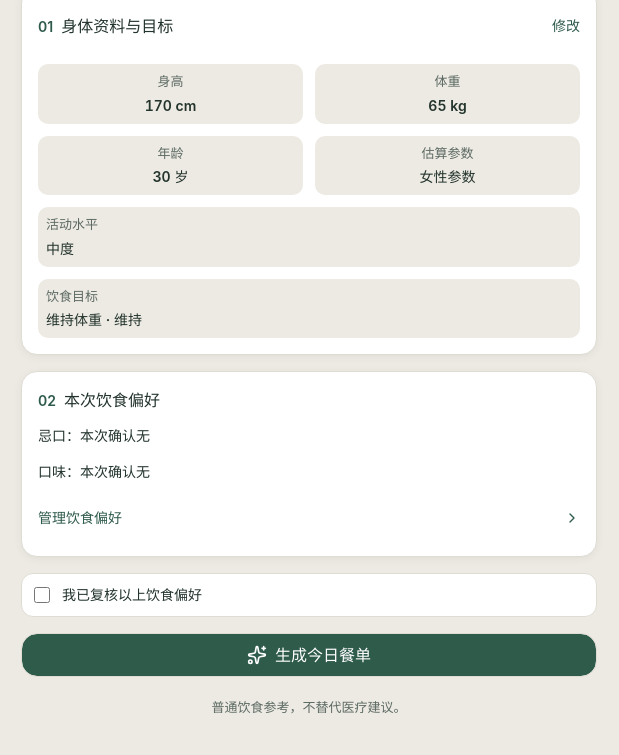
Scenario: PlanPage › never trusts raw stream text and does not provide a bypass when the safe snapshot refuses planning
The width and height of the screenshot is (619, 755).
expect the text "170 cm" is shown: met, box [145,96,196,114]
Step 1. Click the checkbox labelled "我已复核以上饮食偏好" → [42, 595], box [34,587,50,603]
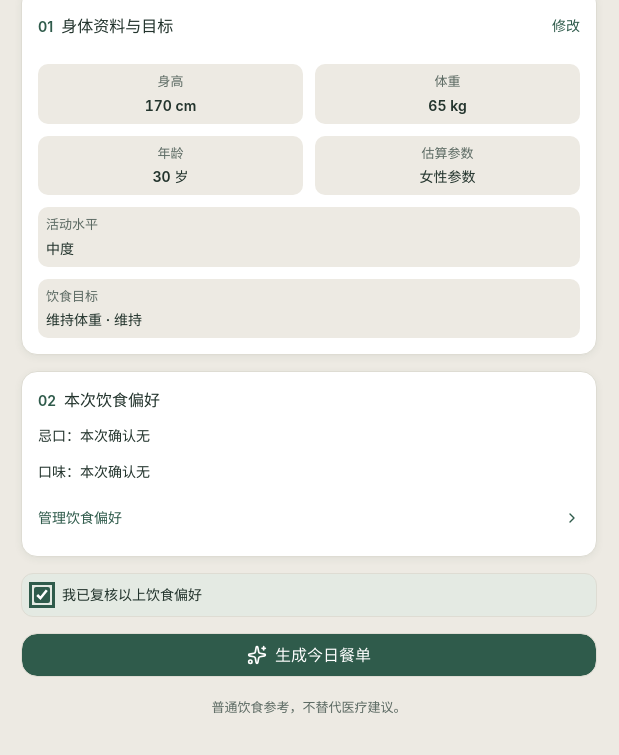
Step 2. Click the button "生成今日餐单" → [309, 655], box [21,633,597,677]
(page scrolled)
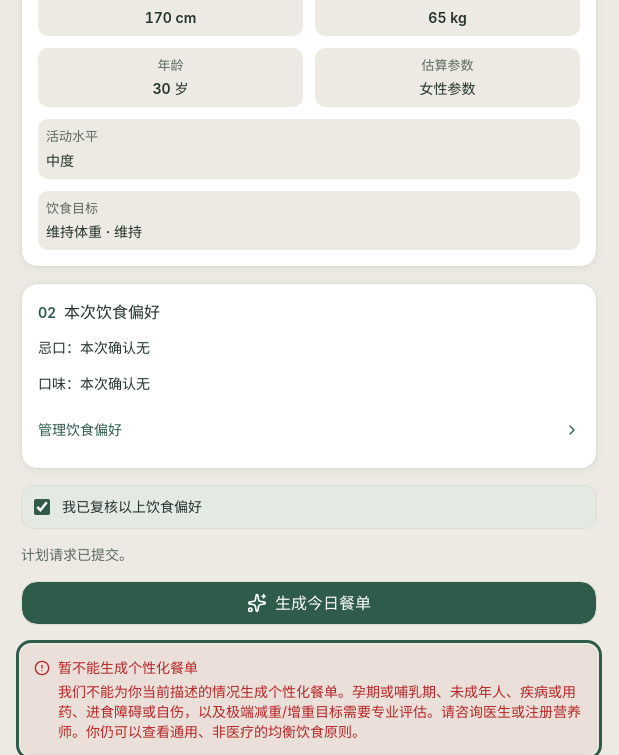
expect the text "我们不能为你当前描述的情况生成个性化餐单" is shown: met, box [58,683,581,740]
